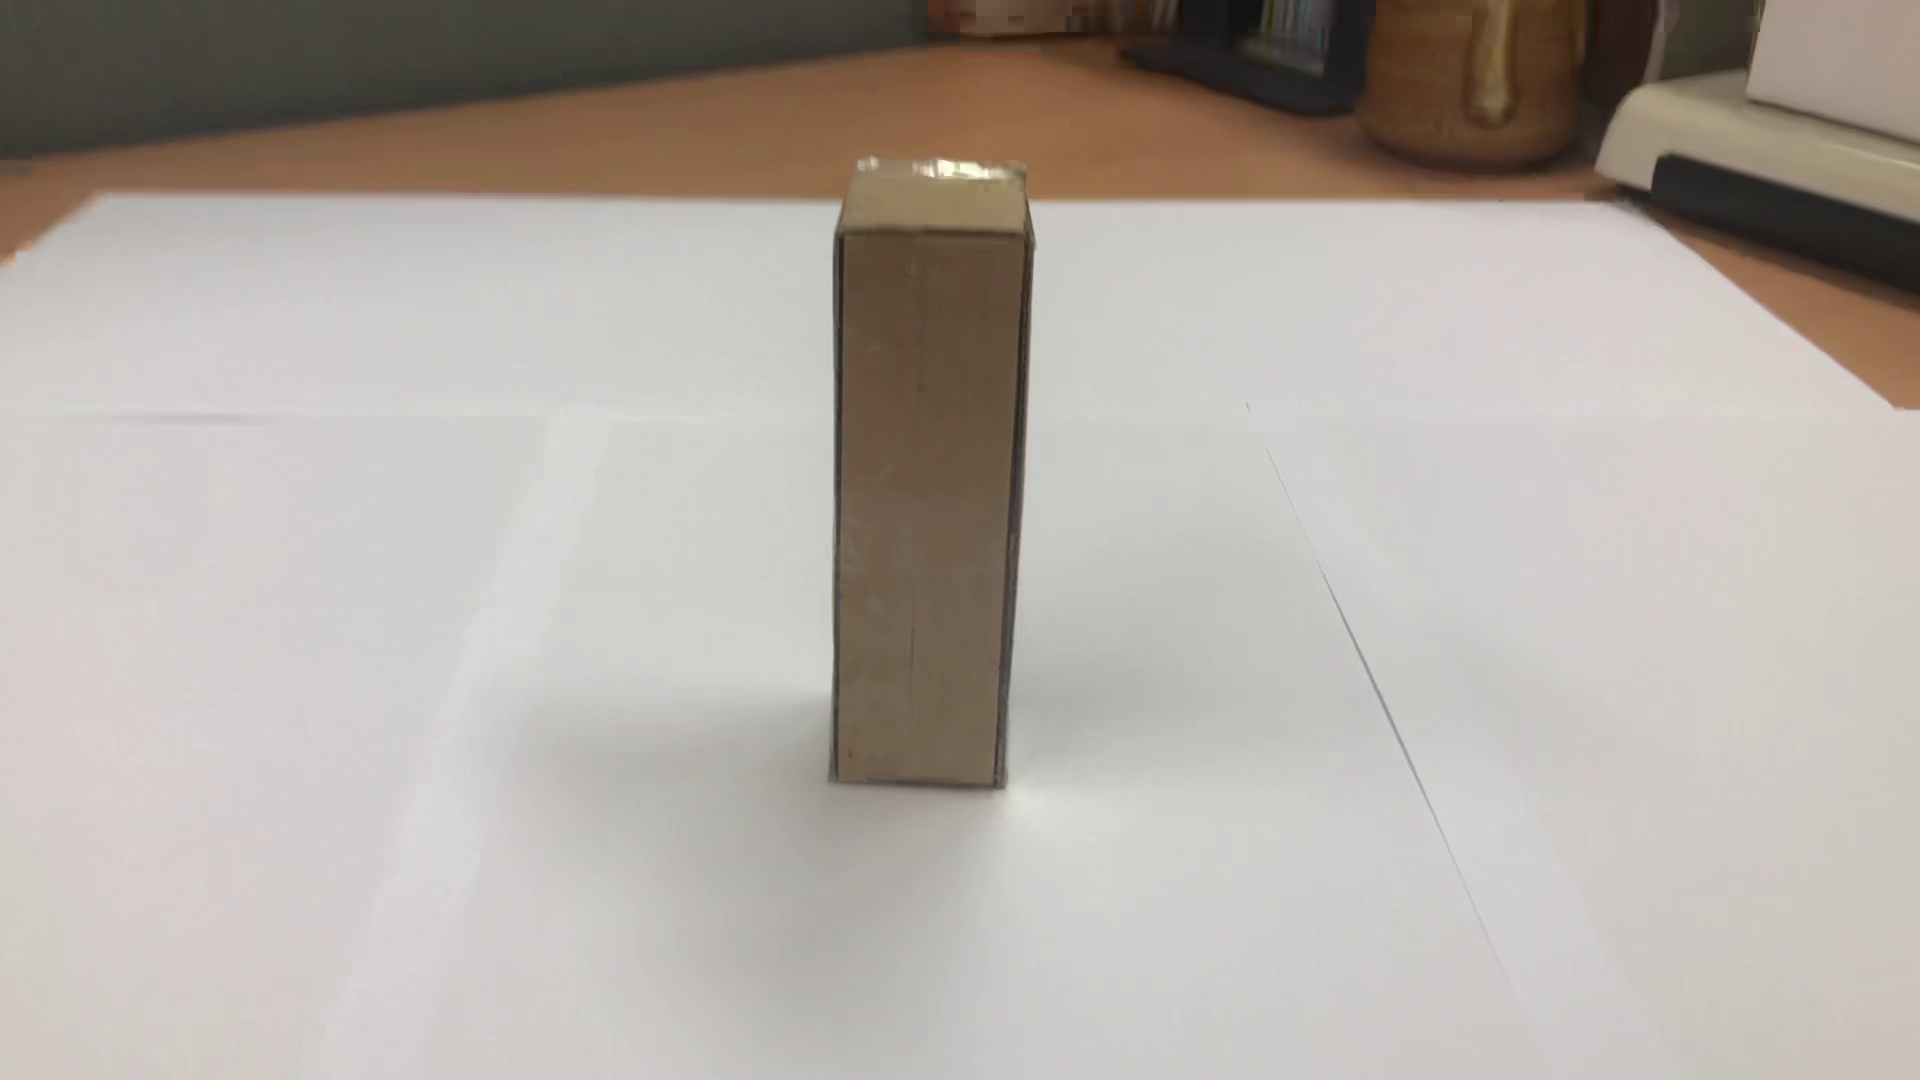box: (808, 131, 1051, 835)
